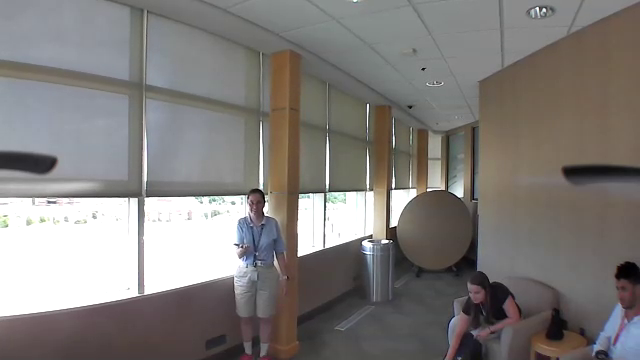land: (231, 240, 258, 254)
